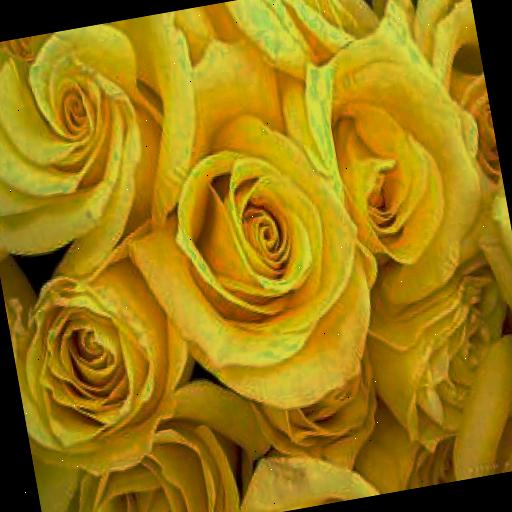rose: (134, 63, 404, 416), (278, 2, 506, 303)
